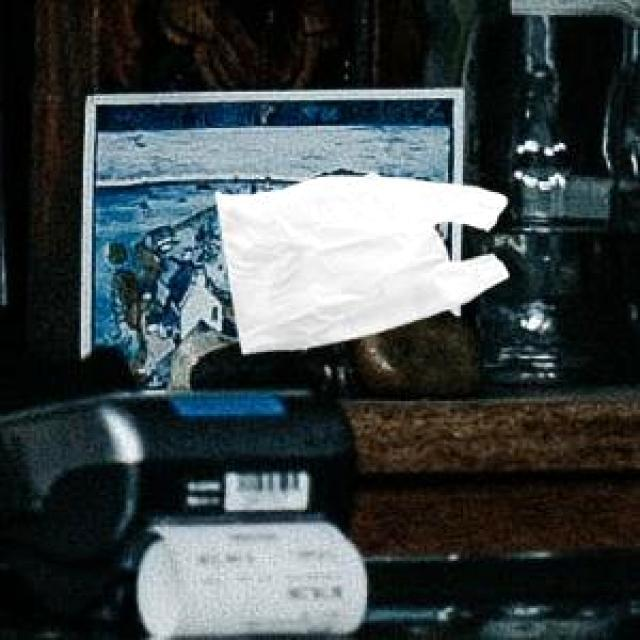Plastic_Bag: (212, 170, 505, 352)
